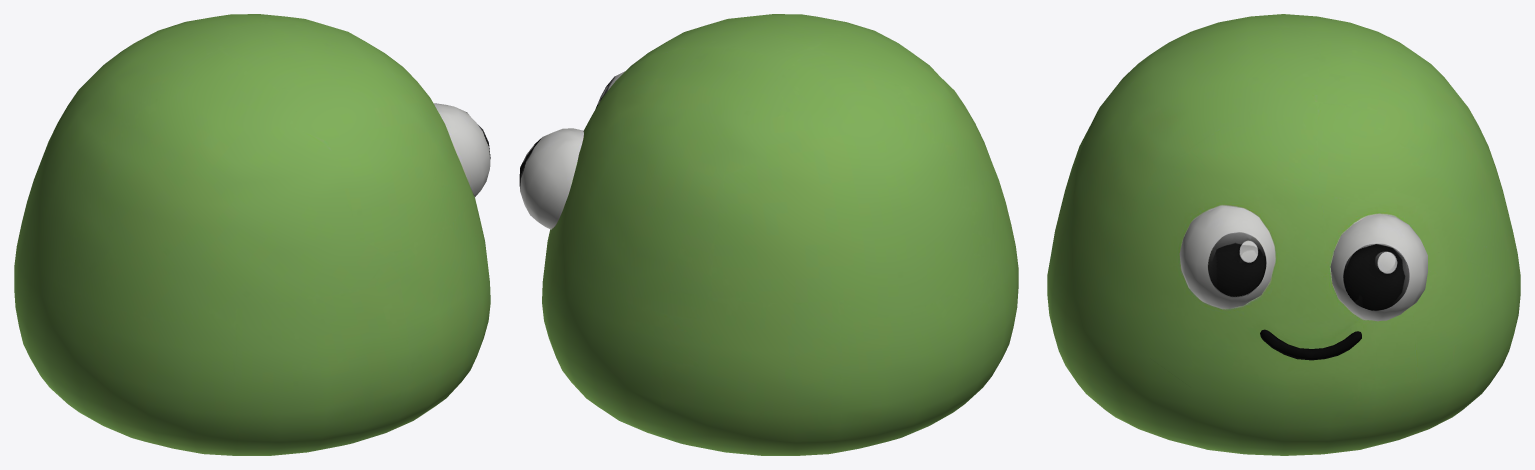
Rendered from 史莱姆4.glb.
3 renders of one model, left to right at view 1: azimuth 30°, elevation 25°; view 2: azimuth 150°, elevation 25°; view 3: azimuth 270°, elevation 25°, orthographic.
Visible parts, largest first — view 1: tripo_node_72da9962-e15f-4447-b888-038f5407c350; view 2: tripo_node_72da9962-e15f-4447-b888-038f5407c350; view 3: tripo_node_72da9962-e15f-4447-b888-038f5407c350.
Boxes of the visible parts, x1,y1,x2,y2 form: tripo_node_72da9962-e15f-4447-b888-038f5407c350: (14,14,490,455); tripo_node_72da9962-e15f-4447-b888-038f5407c350: (519,14,1018,455); tripo_node_72da9962-e15f-4447-b888-038f5407c350: (1047,14,1520,455).
Size of the model in its own units: 0.998 by 0.8223 by 0.9785.
Materials: 1 (1 with a texture image).
